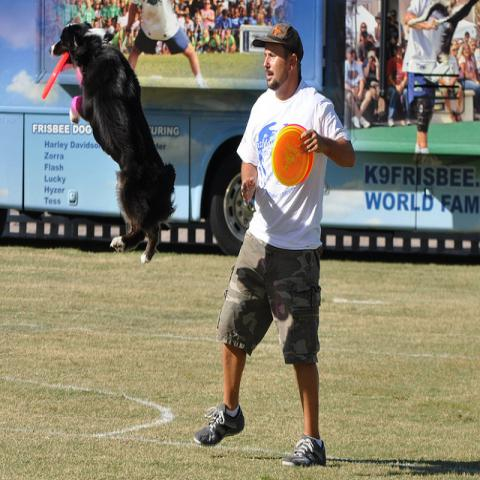bus: (2, 0, 480, 265)
truck: (0, 1, 479, 264)
